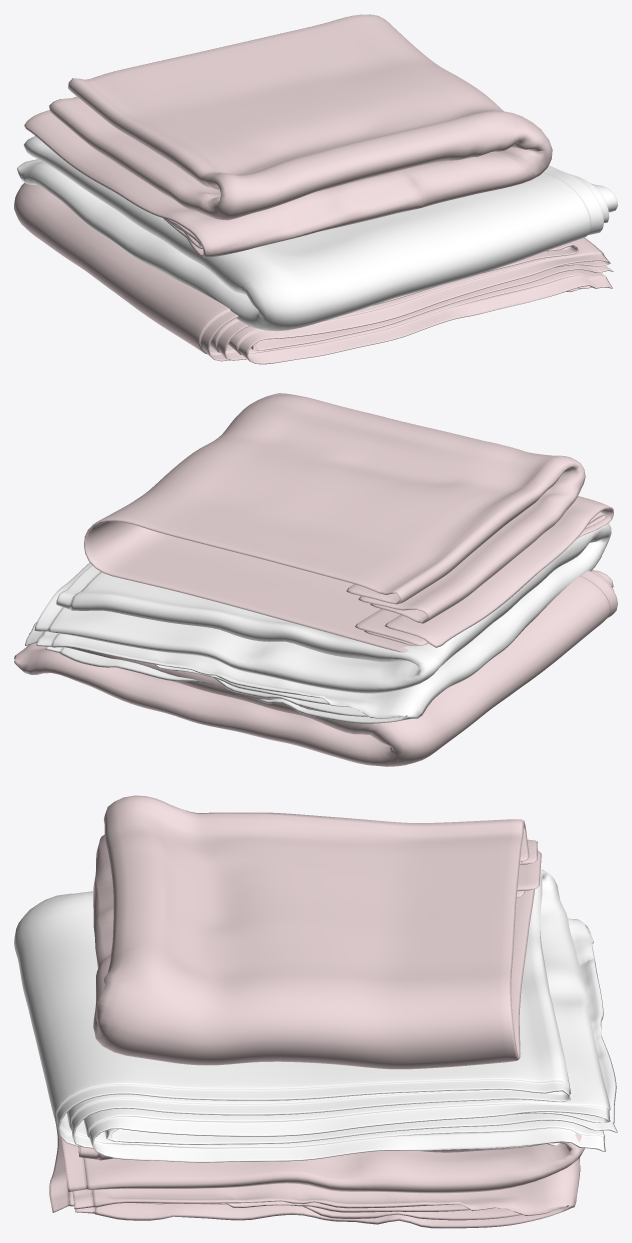
File: folded_clothes3.glb
3 views of the same model, one above another, from view 1: azimuth 30°, elevation 25°; view 2: azimuth 150°, elevation 25°; view 3: azimuth 270°, elevation 25° (orthographic). The views are drawn at different scales.
Visible parts, largest first — view 1: towel_02_white002, towel_01_white004, towel_01_white003; view 2: towel_02_white002, towel_01_white004, towel_01_white003; view 3: towel_02_white002, towel_01_white004, towel_01_white003.
Boxes of the visible parts, x1,y1,x2,y2 form: towel_02_white002: (24,14,552,257); towel_01_white004: (17,136,617,331); towel_01_white003: (14,183,613,364); towel_02_white002: (84,393,613,652); towel_01_white004: (25,523,611,723); towel_01_white003: (14,570,617,766); towel_02_white002: (93,795,541,1069); towel_01_white004: (14,869,617,1162); towel_01_white003: (49,1120,584,1228).
Size of the model in its own units: 0.3079 by 0.1282 by 0.3175.
